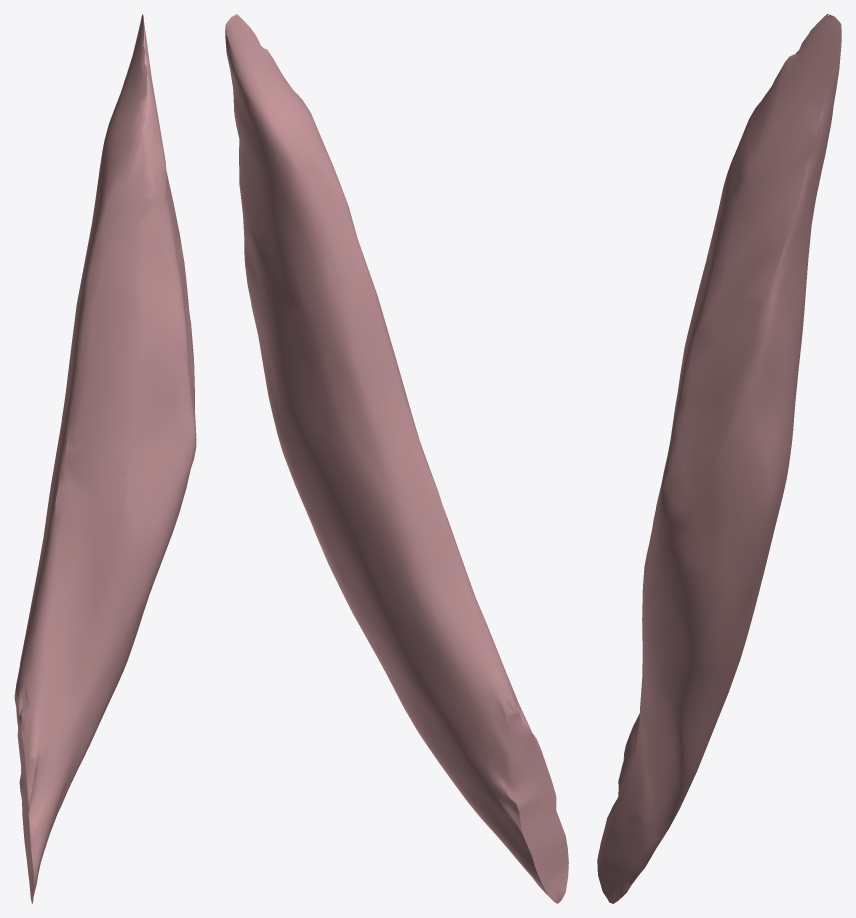
File: fma297800_mm1871.glb
The picture shows the model from 3 angles, left to right: view 1: azimuth 30°, elevation 25°; view 2: azimuth 150°, elevation 25°; view 3: azimuth 270°, elevation 25°; orthographic projection. The views are drawn at different scales.
Parts seen in each view (by area): view 1: FMA297800_MM1871; view 2: FMA297800_MM1871; view 3: FMA297800_MM1871.
Boxes of the visible parts, x1,y1,x2,y2 form: FMA297800_MM1871: (14, 14, 196, 903); FMA297800_MM1871: (225, 14, 568, 903); FMA297800_MM1871: (597, 14, 841, 903).
Size of the model in its own units: 0.0366 by 0.127 by 0.0278.
